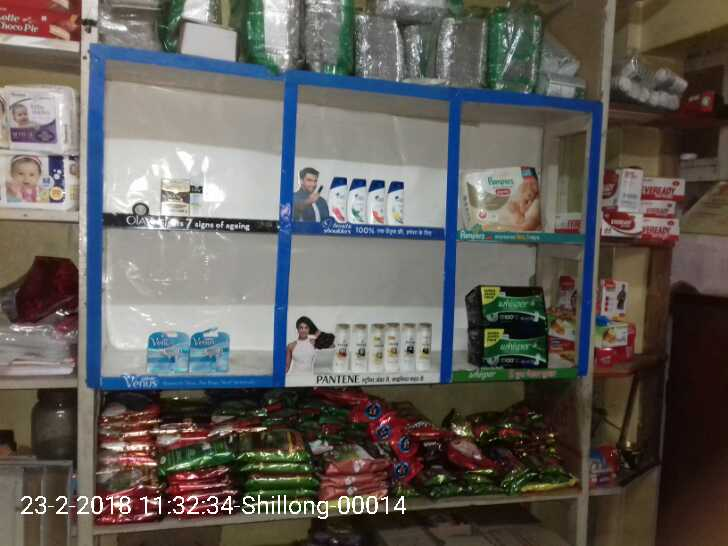venus: (147, 329, 189, 372), (189, 332, 230, 372)
